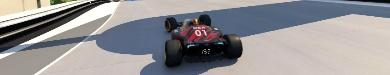Car: (163, 14, 243, 66)
Solid White and black: (0, 0, 120, 74)
